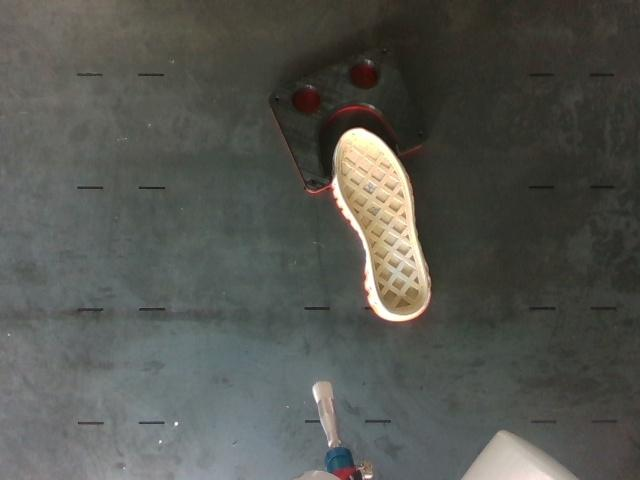shoes: (335, 129, 429, 315)
